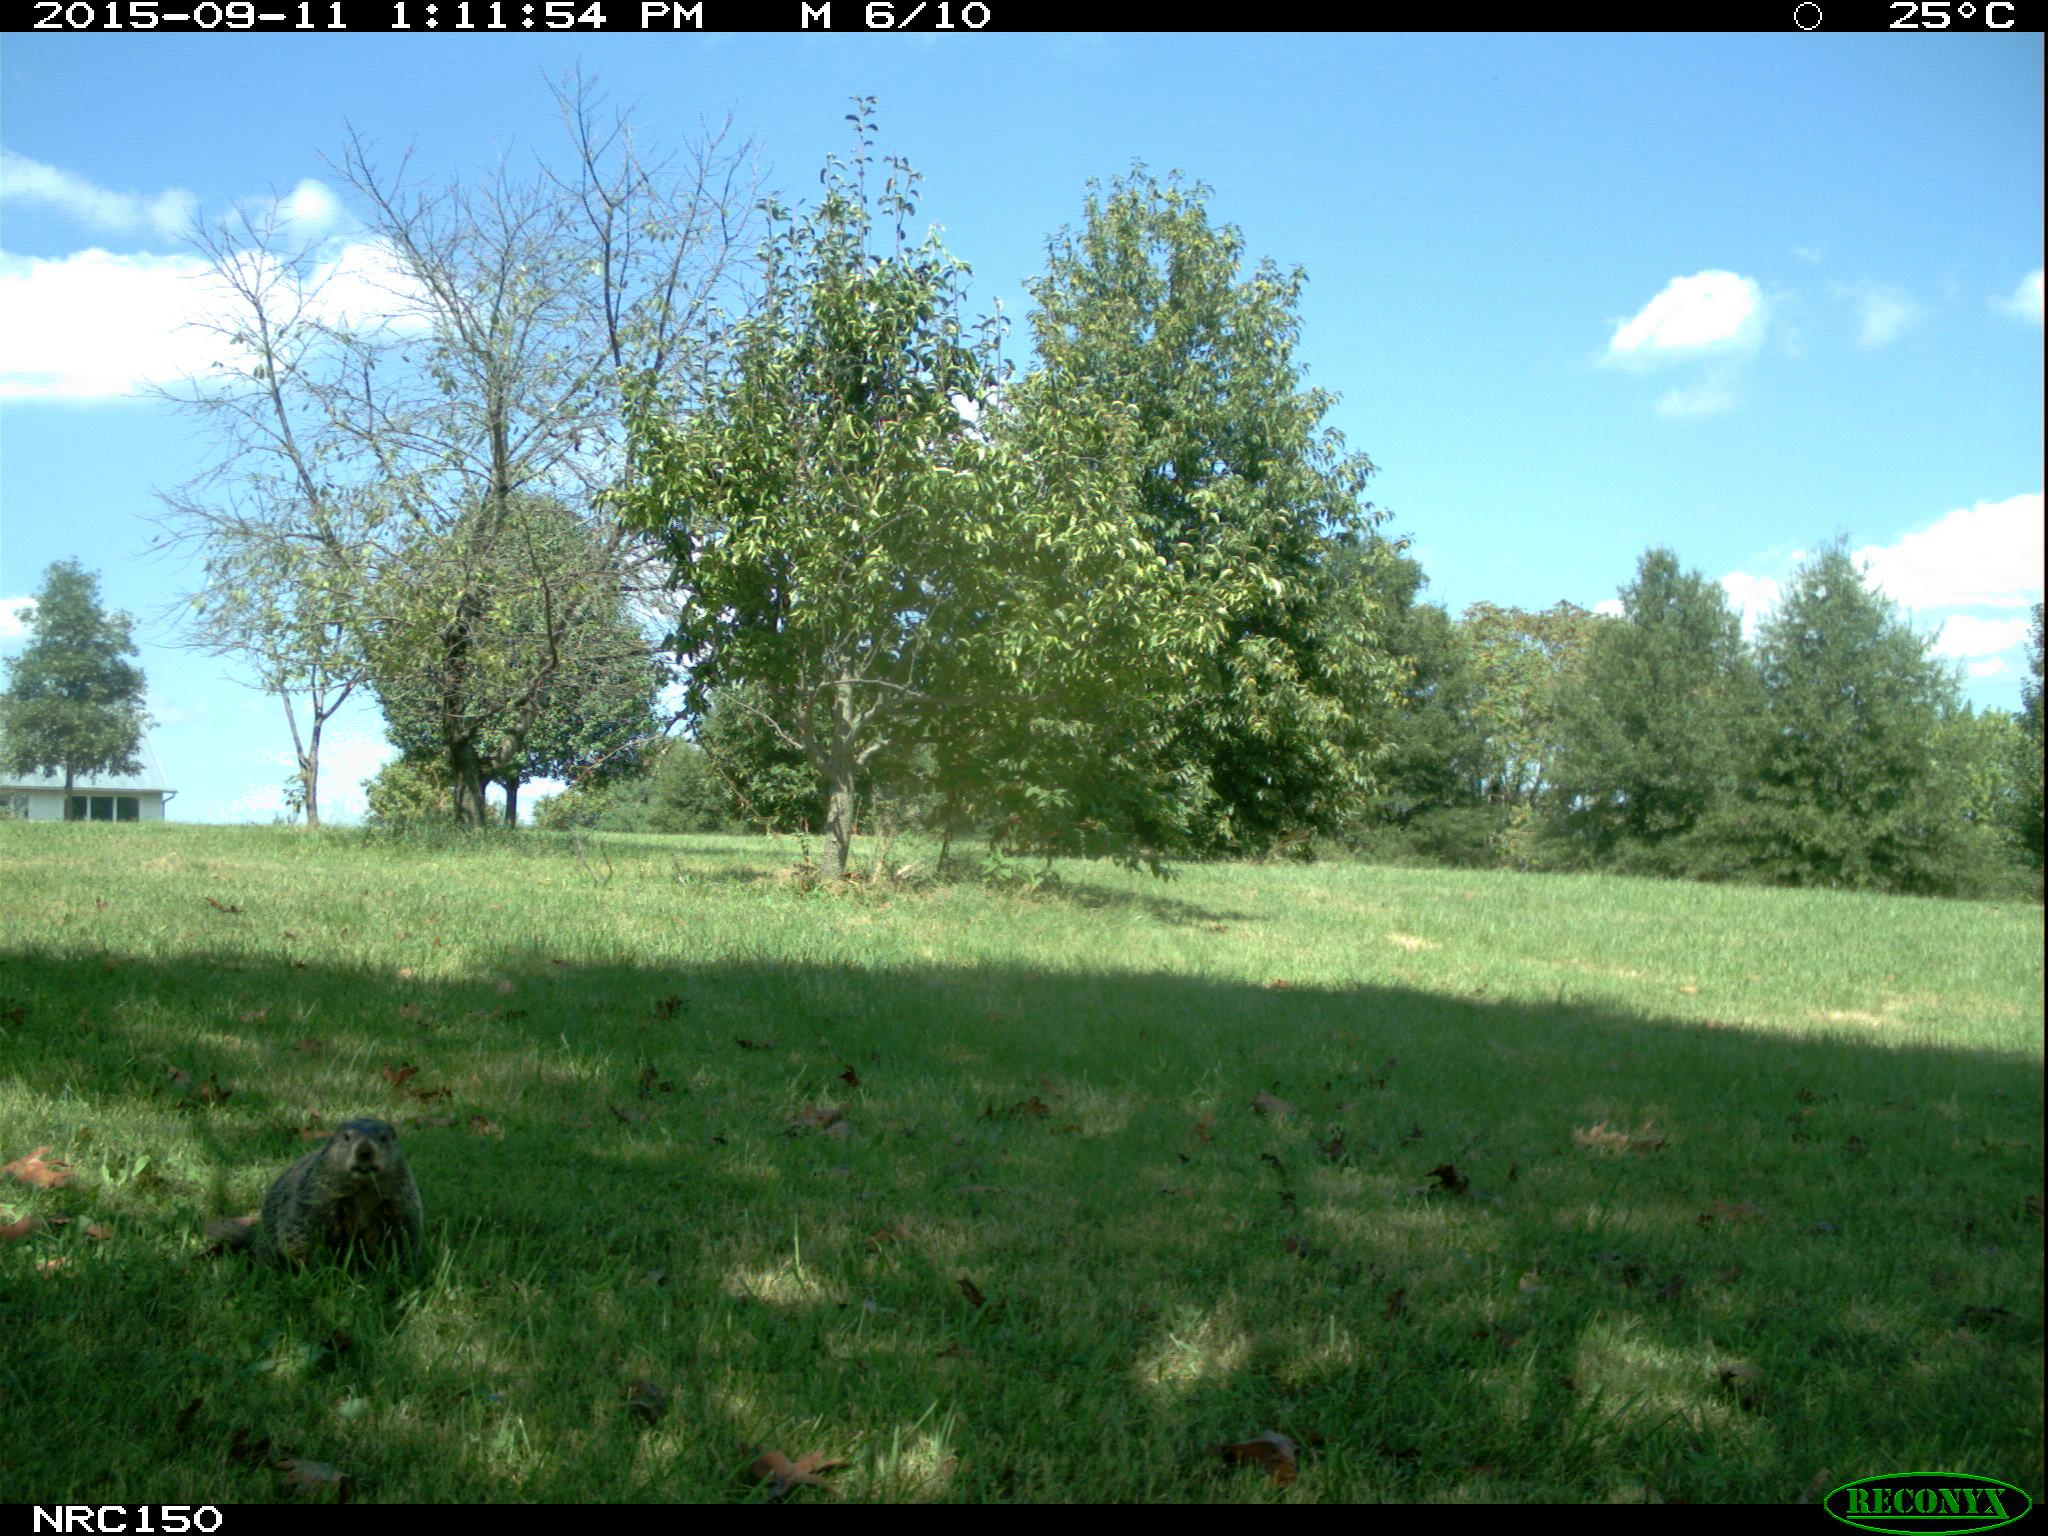Animal: (248, 1113, 429, 1297)
